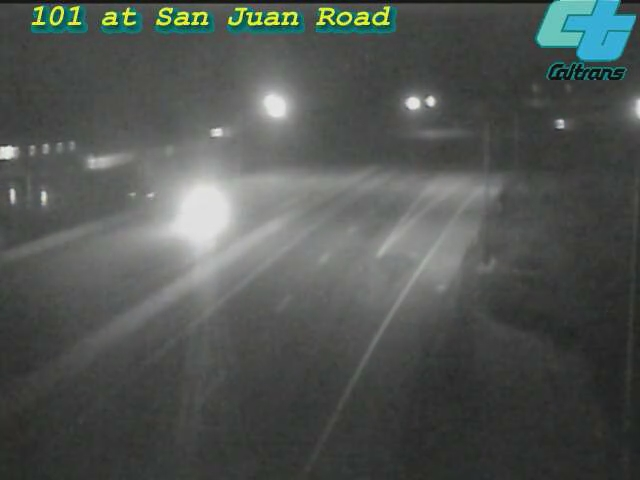vehicle: (158, 175, 238, 255)
